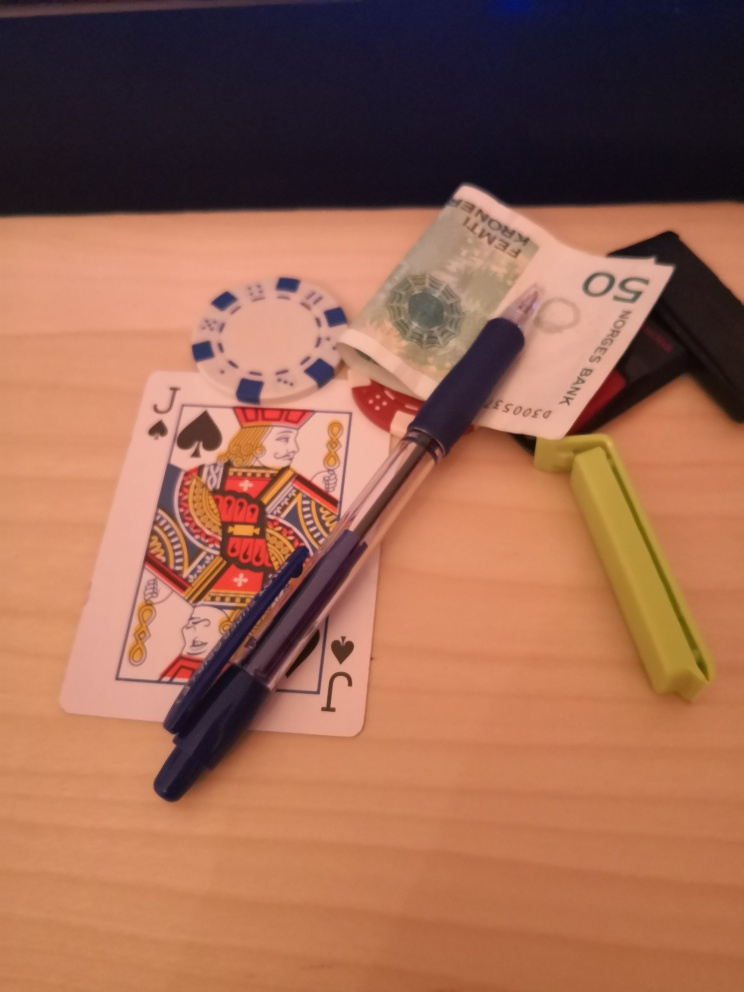jack: (59, 370, 382, 740)
